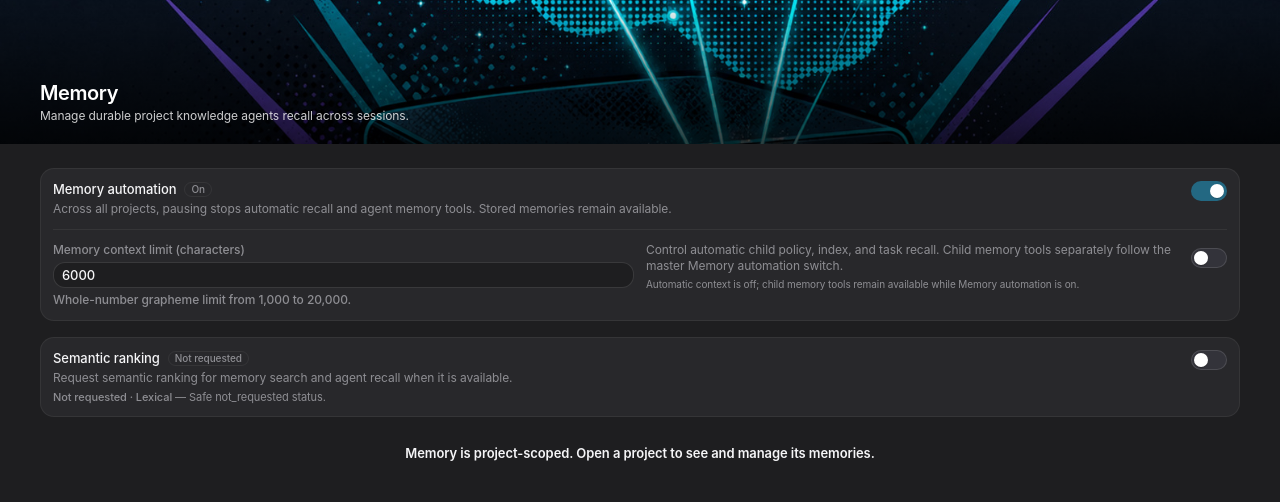
Scenario: MemoryScreen project memory preference › restores the saved budget and reports invalid blur value
The width and height of the screenshot is (1280, 502).
Clear the number field with test id "agent-memory-budget" at (344, 275), box [53,262,634,288]
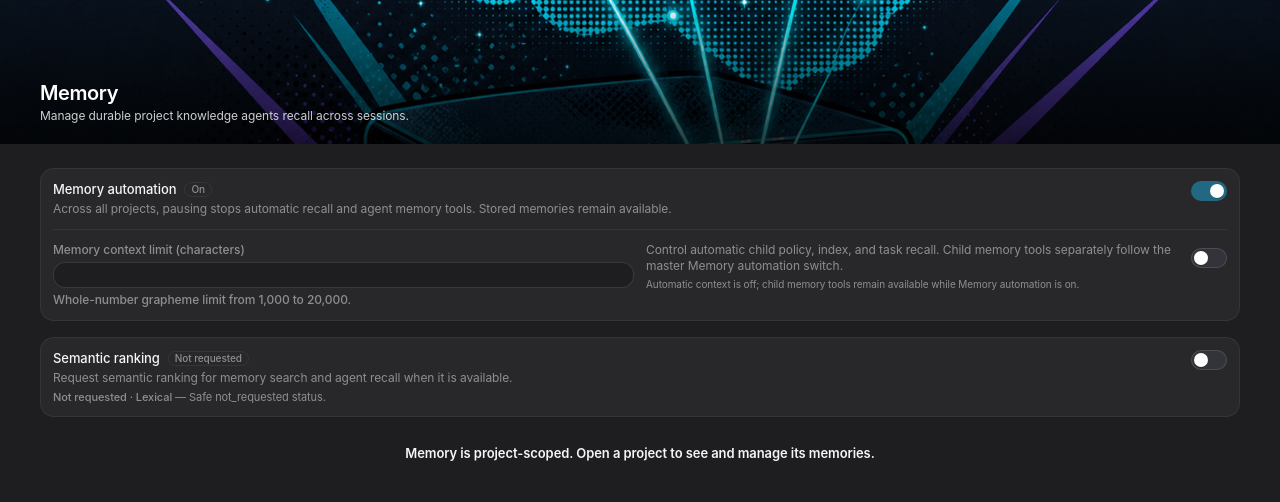
Leave the number field with test id "agent-memory-budget", box [53,262,634,288]
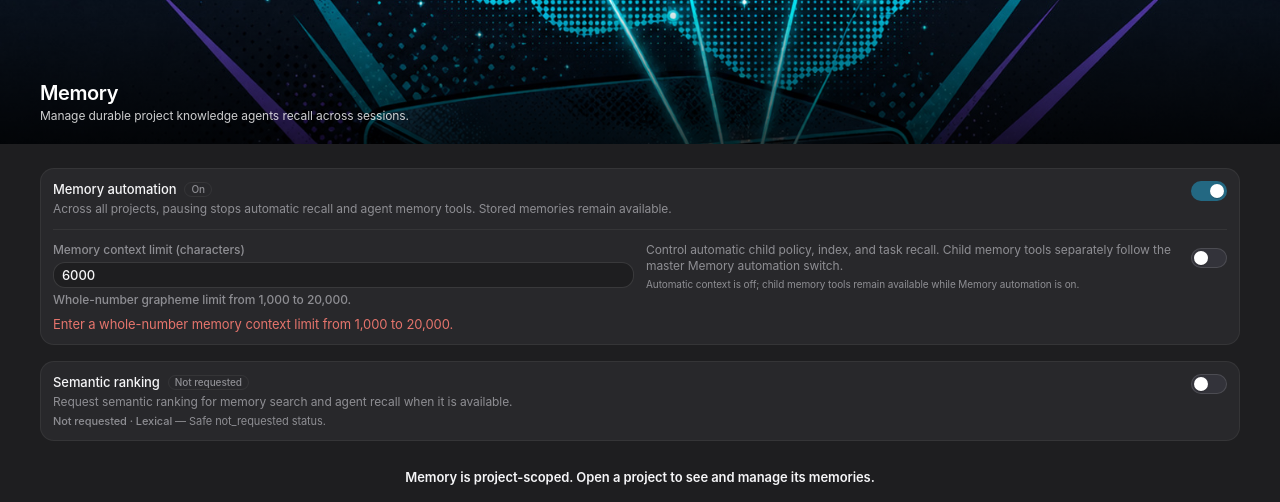
Result: the number field with test id "agent-memory-budget" holds "6000" at [53,262,634,288]
Result: the message with test id "agent-memory-save-status" shows "1,000 to 20,000" at [53,316,453,332]
